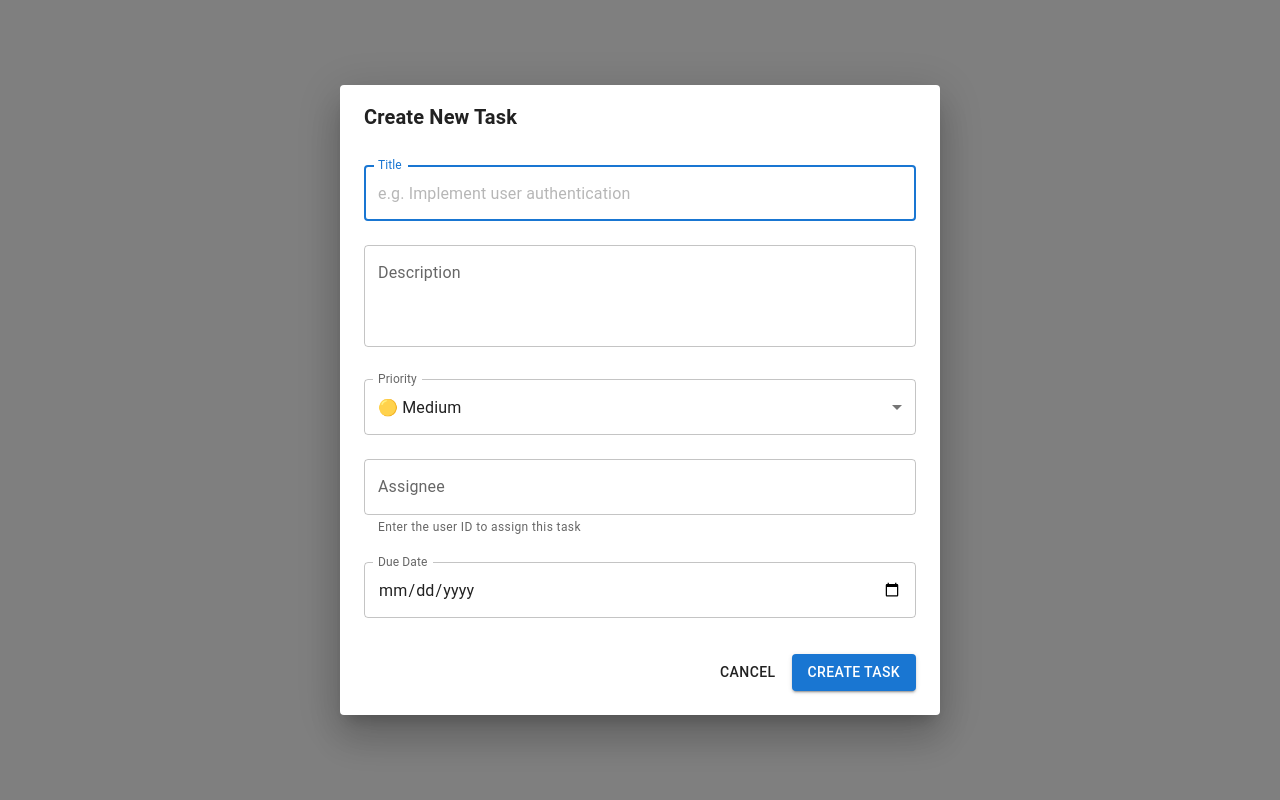
Scenario: TaskModal › shows error when title is empty
What coordinates should you click on to do the following:
click the button "Create Task"
I would click on:
 (854, 672)
Its box is [792, 654, 916, 691].
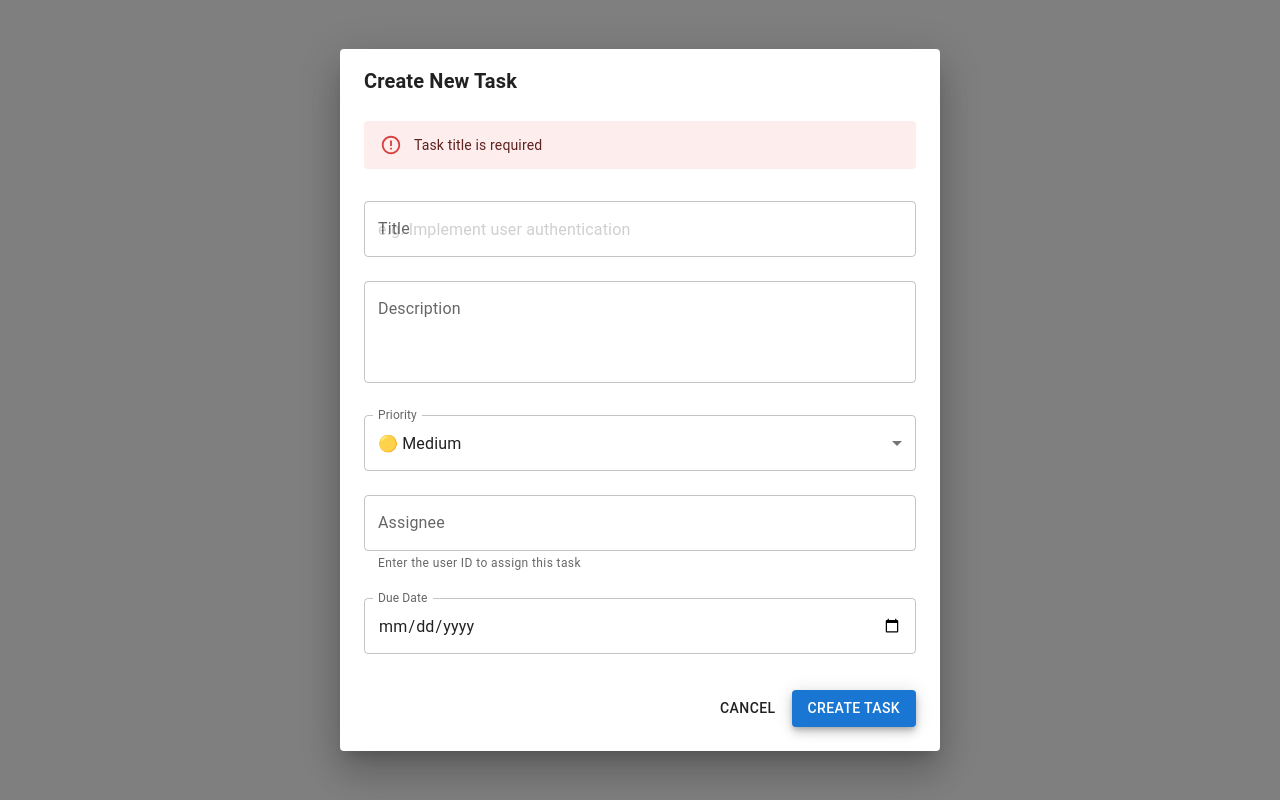
Expected: the text "Task title is required" is shown, [414, 137, 542, 153]
